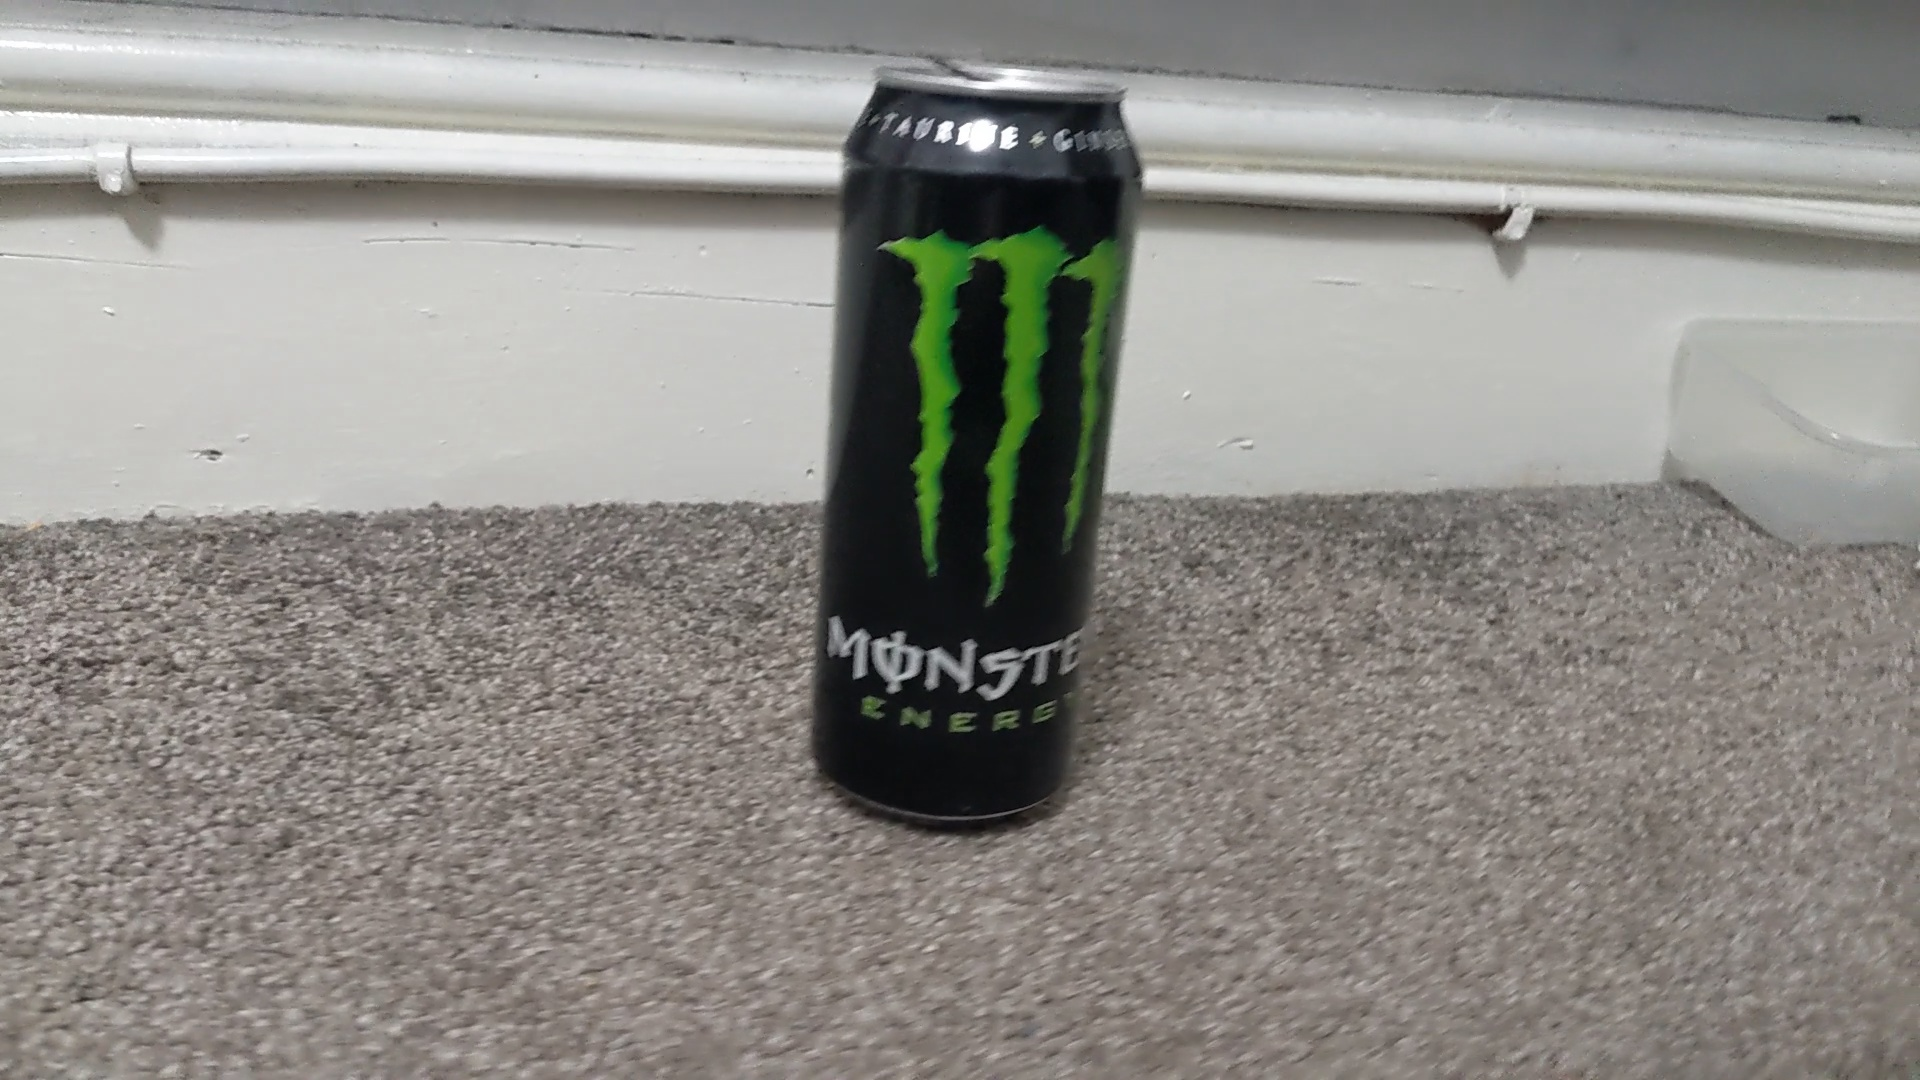monster-original: (808, 70, 1145, 822)
